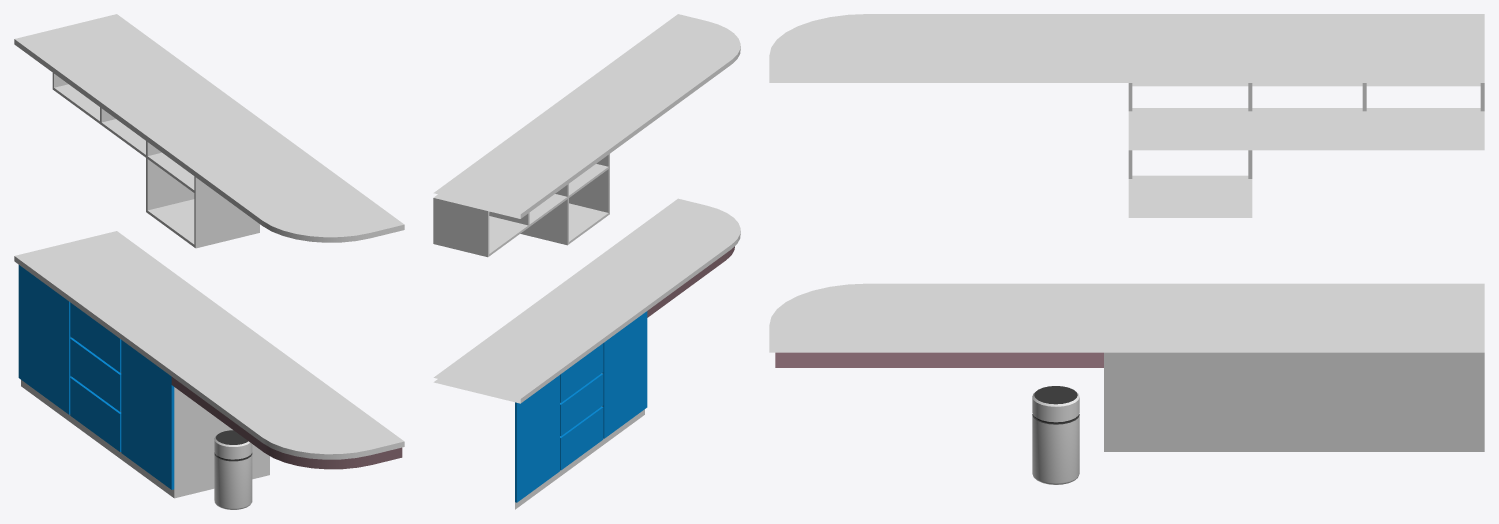
Rendered from Cabinets.fbx.
3 views of the same model, side by side, from view 1: azimuth 30°, elevation 25°; view 2: azimuth 150°, elevation 25°; view 3: azimuth 270°, elevation 25° (orthographic). The views are drawn at different scales.
Parts seen in each view (by area): view 1: Shelves, Cabinets, Dustbin; view 2: Shelves, Cabinets; view 3: Shelves, Cabinets, Dustbin.
Boxes of the visible parts, x1,y1,x2,y2 form: Shelves: [14, 14, 404, 469]; Cabinets: [18, 73, 269, 498]; Dustbin: [214, 430, 252, 509]; Shelves: [433, 14, 740, 403]; Cabinets: [433, 154, 647, 509]; Shelves: [769, 14, 1484, 367]; Cabinets: [1104, 83, 1484, 451]; Dustbin: [1032, 386, 1079, 484].
Bounding box in the file's own units: 0.7453 × 2.42 × 3.62.
